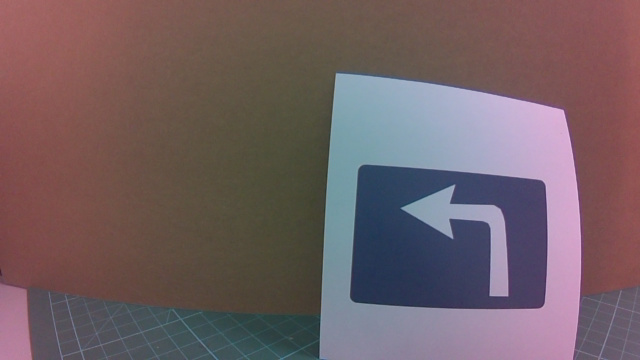left: (356, 163, 548, 331)
